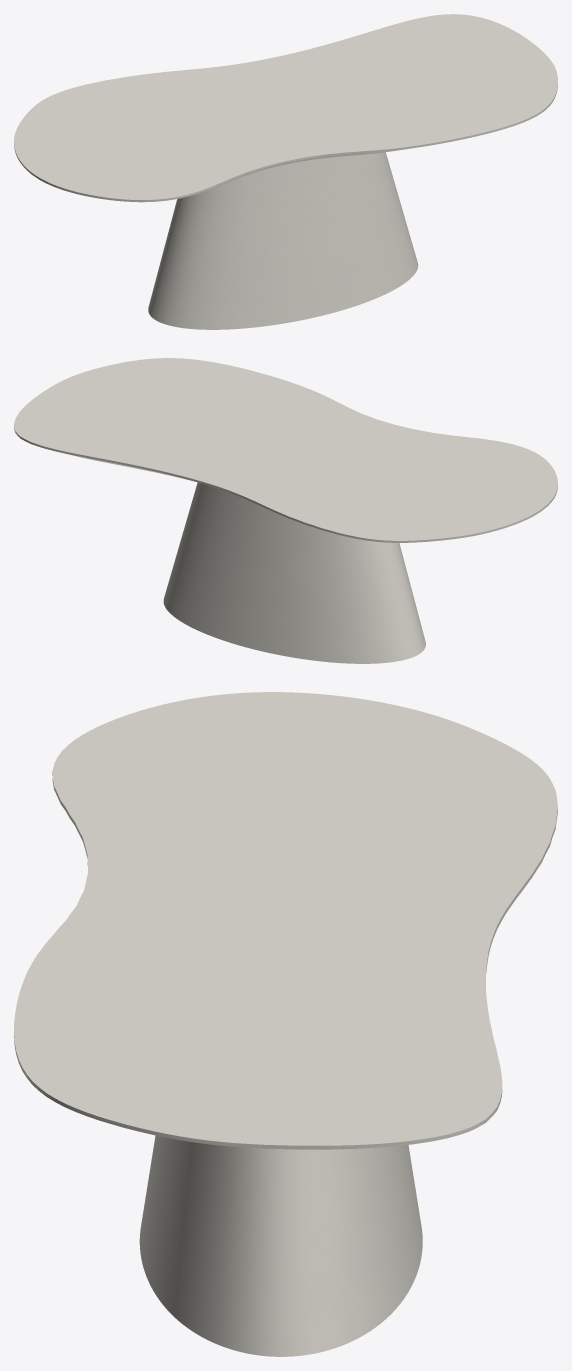
Rendered from pale_wave_facet_eqone.glb.
The picture shows the model from 3 angles, top to bottom: view 1: azimuth 30°, elevation 25°; view 2: azimuth 150°, elevation 25°; view 3: azimuth 270°, elevation 25°; orthographic projection. The views are drawn at different scales.
Parts seen in each view (by area): view 1: facet_wave, eqone; view 2: facet_wave, eqone; view 3: facet_wave, eqone.
Part boxes in pixels (left/top/right/bottom): facet_wave: left=14, top=14, right=557, bottom=202; eqone: left=148, top=152, right=418, bottom=329; facet_wave: left=14, top=358, right=557, bottom=542; eqone: left=163, top=482, right=425, bottom=663; facet_wave: left=14, top=692, right=557, bottom=1149; eqone: left=139, top=1135, right=422, bottom=1356.
Bounding box in the file's own units: 7.5 × 2.5 × 3.8.
1 material, 1 textured.
